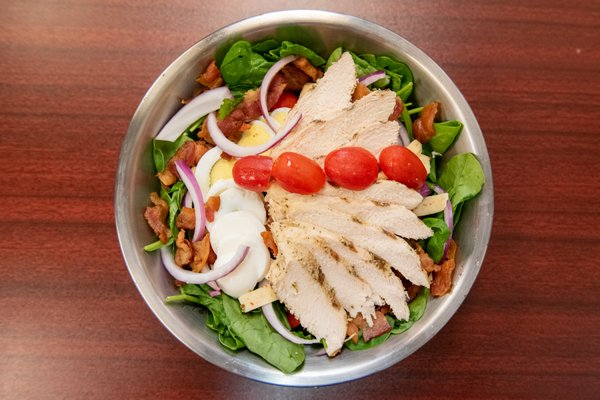sushi: (114, 8, 517, 387)
